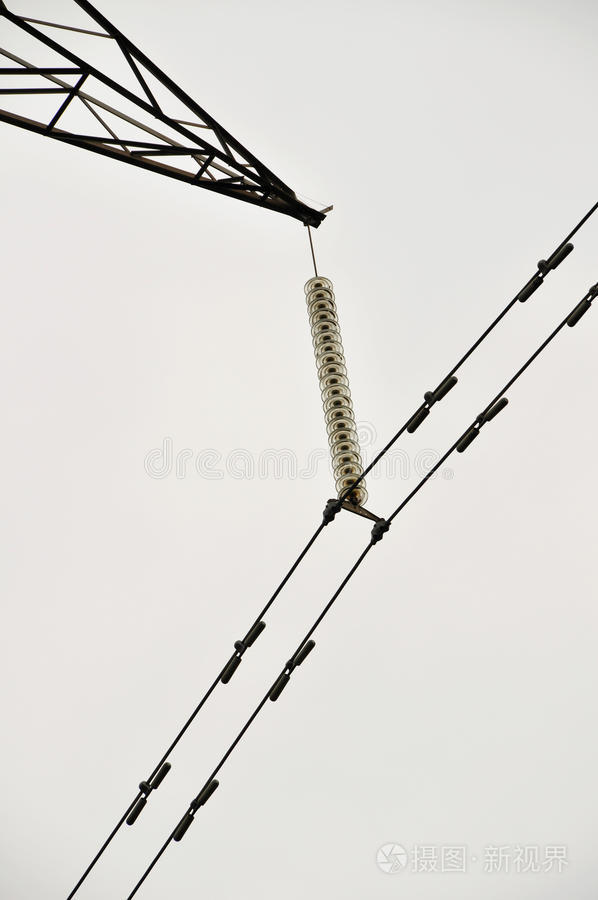insulator: (301, 274, 369, 504)
